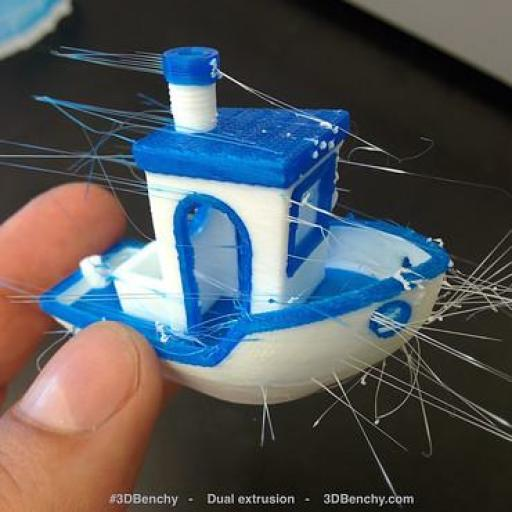stringing: (48, 39, 160, 197), (380, 328, 464, 437), (431, 234, 512, 328)
